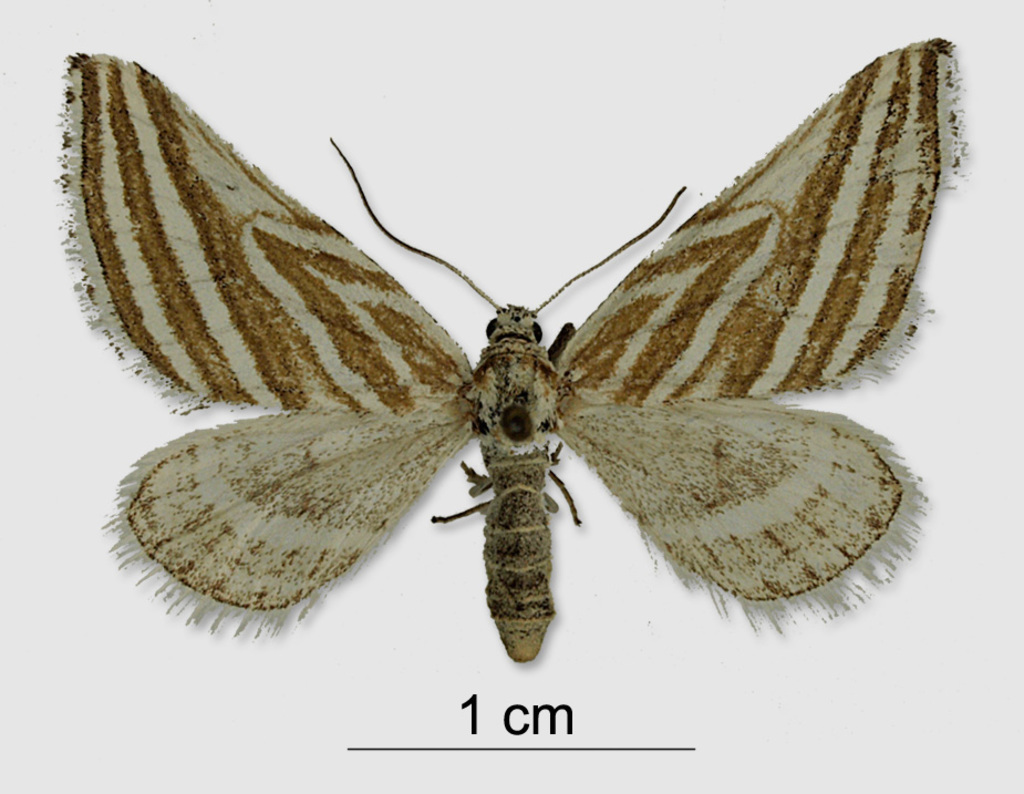Butterfly: (31, 29, 979, 670)
